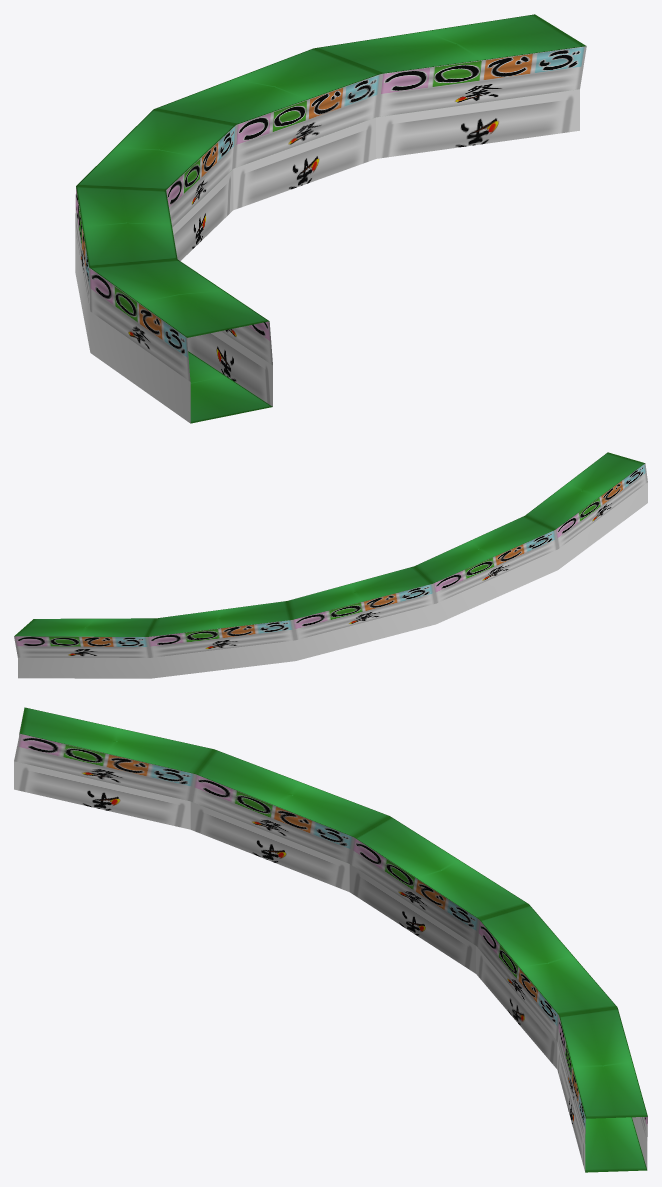
File: CourseSummer_Wall_L_12.fbx
3 views of the same model, one above another, from view 1: azimuth 30°, elevation 25°; view 2: azimuth 150°, elevation 25°; view 3: azimuth 270°, elevation 25° (orthographic). The views are drawn at different scales.
Visible parts, largest first — view 1: polySurface74; view 2: polySurface74; view 3: polySurface74.
Boxes of the visible parts, x1=… form: polySurface74: x1=75, y1=14, x2=586, y2=423; polySurface74: x1=14, y1=452, x2=647, y2=678; polySurface74: x1=14, y1=707, x2=647, y2=1172.
Bounding box in the file's own units: 20.45 × 6.98 × 20.29.
Materials: 1 (1 with a texture image).
